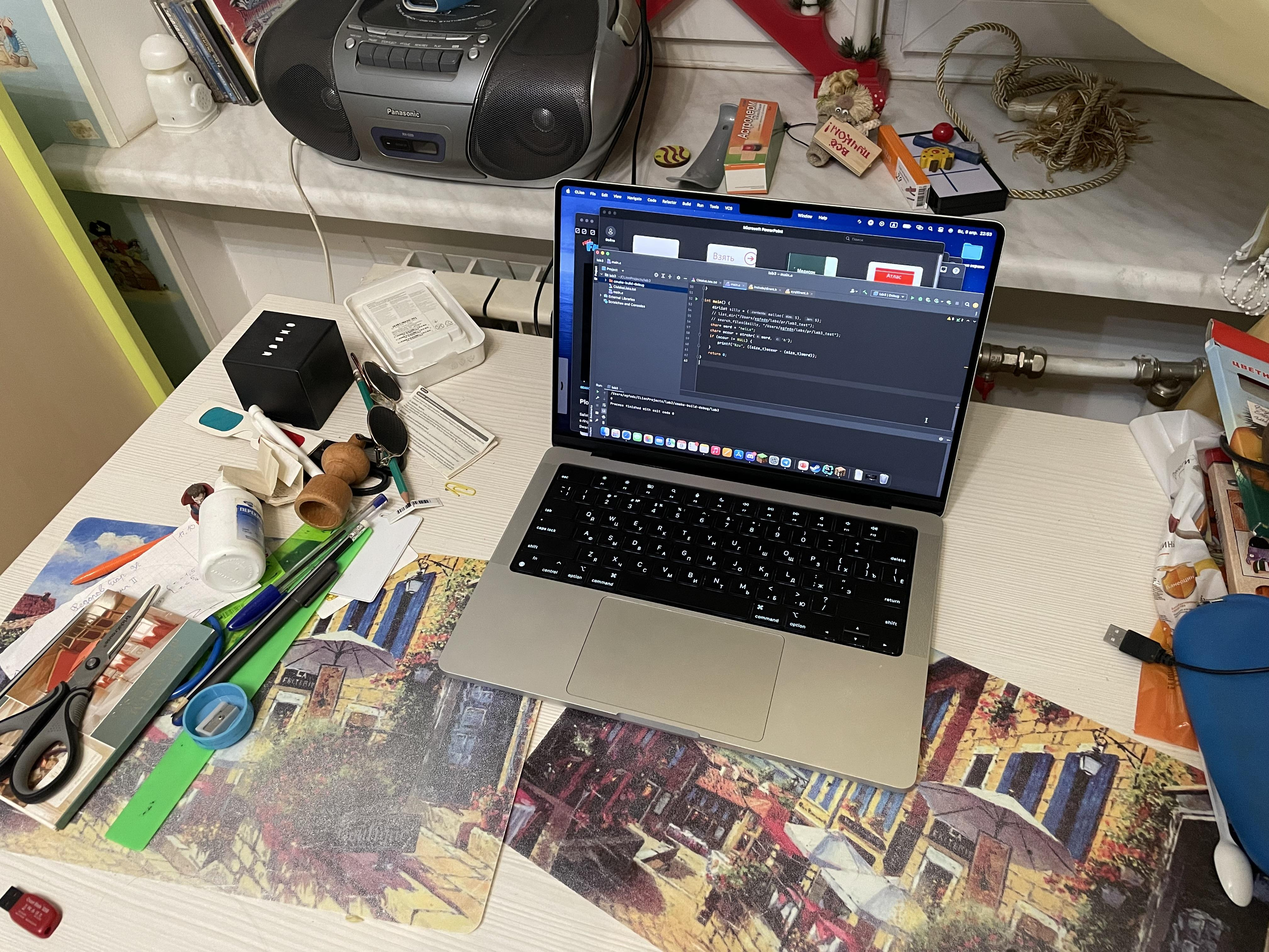monitor: (549, 175, 1008, 520)
